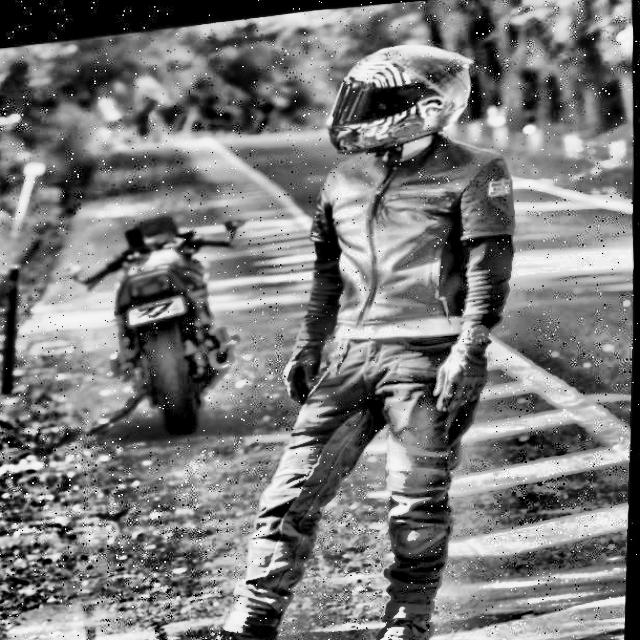Helmet: (316, 27, 482, 159)
